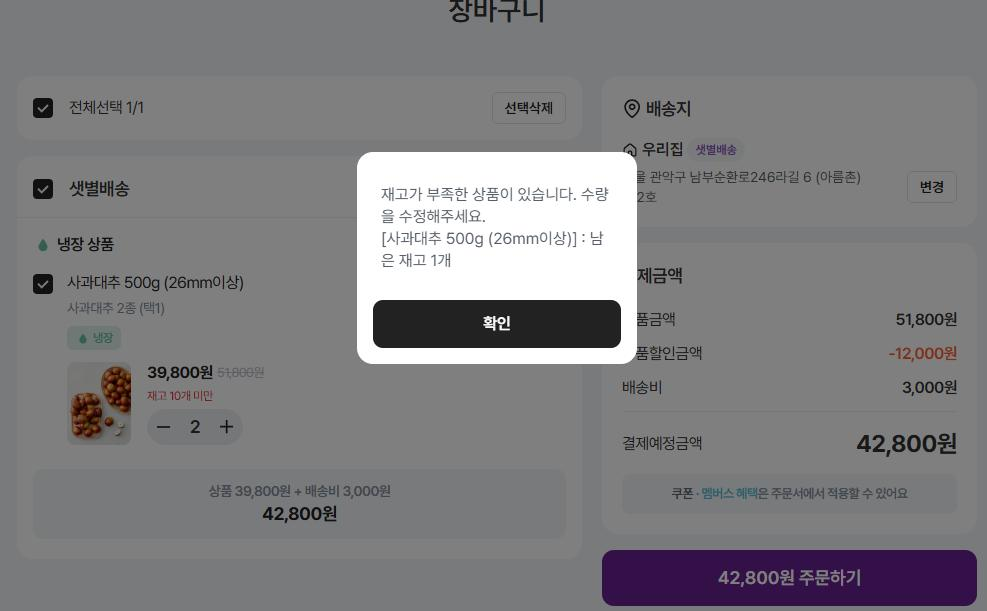button: (603, 551, 971, 605), (375, 300, 621, 345), (499, 87, 560, 117), (905, 165, 955, 187), (149, 402, 182, 435), (230, 415, 258, 445)
checkbox: (30, 266, 270, 303), (27, 176, 154, 210), (27, 97, 139, 119)
popup: (355, 152, 634, 356)
